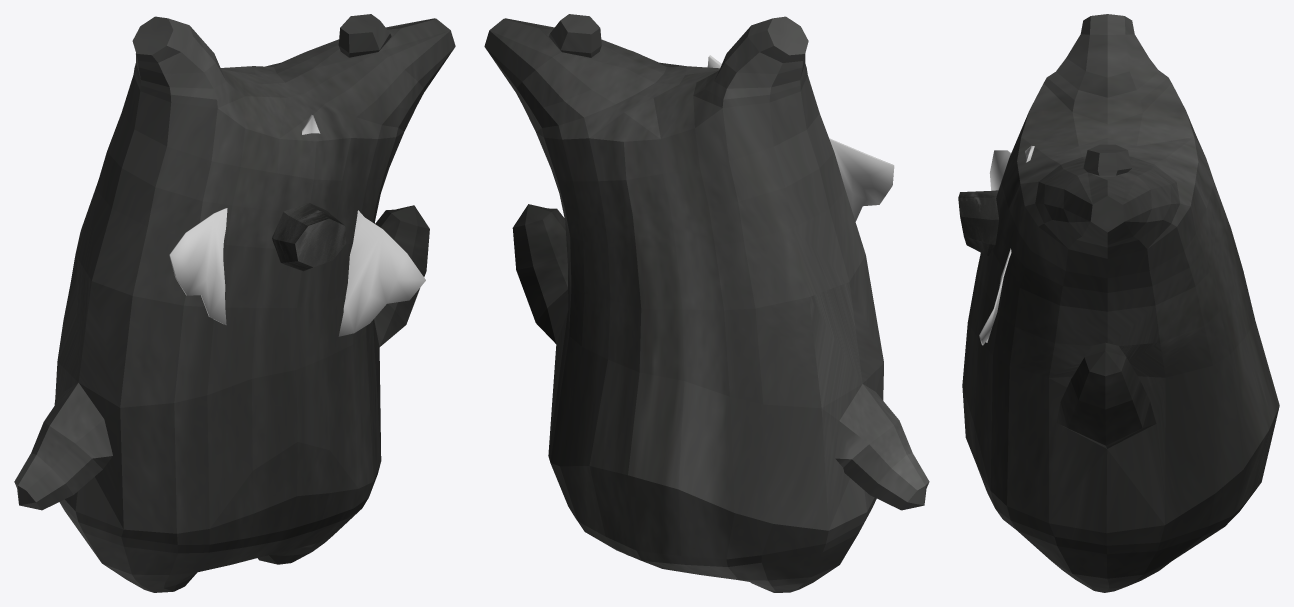
File: frame_0063.obj
3 views of the same model, side by side, from view 1: azimuth 30°, elevation 25°; view 2: azimuth 150°, elevation 25°; view 3: azimuth 270°, elevation 25° (orthographic). The views are drawn at different scales.
Parts seen in each view (by area): view 1: korok, leaf, nose; view 2: korok, leaf; view 3: korok, nose, leaf.
Part boxes in pixels (x1=…): korok: x1=14, y1=14, x2=455, y2=592; leaf: x1=169, y1=114, x2=425, y2=336; nose: x1=272, y1=202, x2=346, y2=271; korok: x1=484, y1=14, x2=929, y2=592; leaf: x1=707, y1=55, x2=894, y2=221; korok: x1=962, y1=14, x2=1279, y2=592; nose: x1=958, y1=190, x2=998, y2=255; leaf: x1=979, y1=145, x2=1034, y2=345.
Size of the model in its own units: 1.7 by 2.13 by 1.18.
